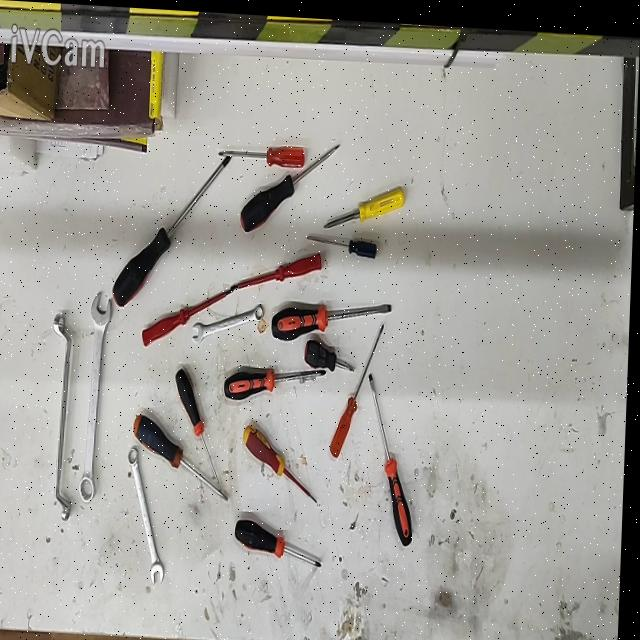Screwdriver: (115, 154, 232, 304), (243, 142, 340, 230), (136, 412, 232, 499), (371, 369, 416, 540), (333, 318, 386, 453), (246, 421, 321, 500), (145, 284, 237, 345), (178, 367, 224, 482), (274, 298, 393, 336), (238, 516, 327, 562), (324, 183, 405, 225), (227, 364, 329, 397), (236, 249, 324, 284), (219, 143, 306, 164), (308, 335, 357, 367), (308, 233, 379, 252)
